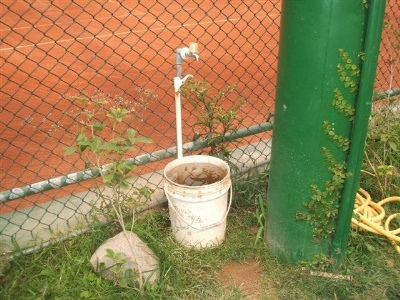bucket: (163, 155, 232, 250)
